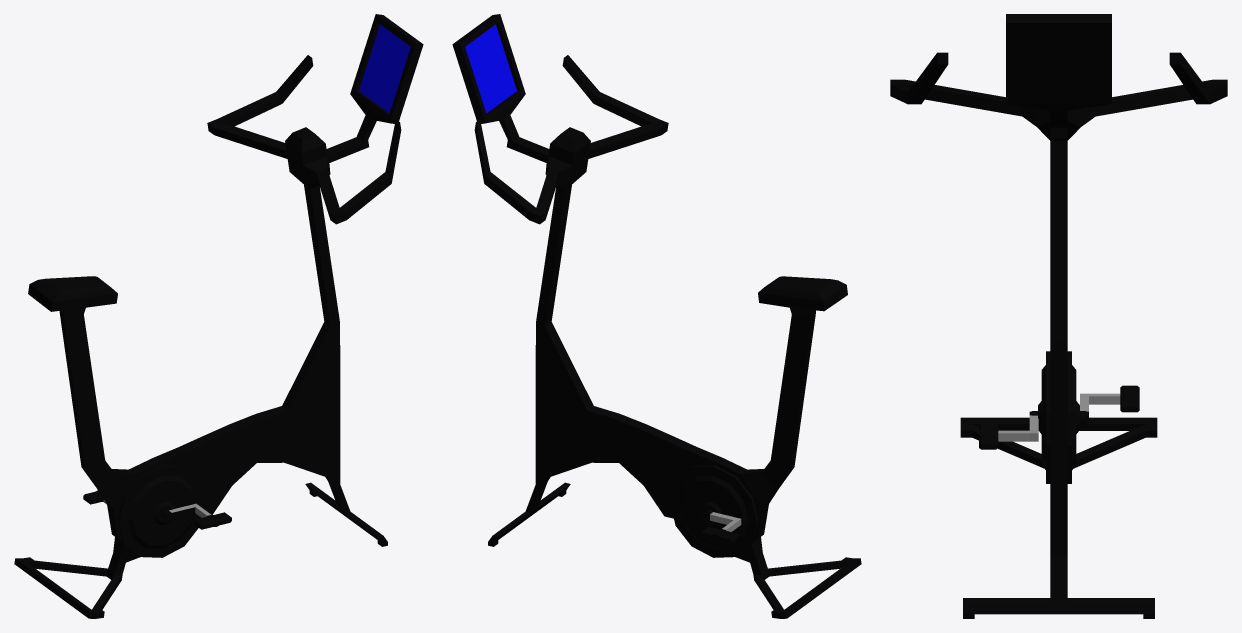
Rendered from ExerciseBike.001.fbx.
3 views of the same model, side by side, from view 1: azimuth 30°, elevation 25°; view 2: azimuth 150°, elevation 25°; view 3: azimuth 270°, elevation 25° (orthographic). The views are drawn at different scales.
Parts seen in each view (by area): view 1: ExerciseBike.001; view 2: ExerciseBike.001; view 3: ExerciseBike.001.
Part boxes in pixels (x1,y1,x2,y2): ExerciseBike.001: (14, 14, 423, 618); ExerciseBike.001: (452, 14, 861, 618); ExerciseBike.001: (890, 14, 1227, 618).
Size of the model in its own units: 115 by 145 by 69.66.
